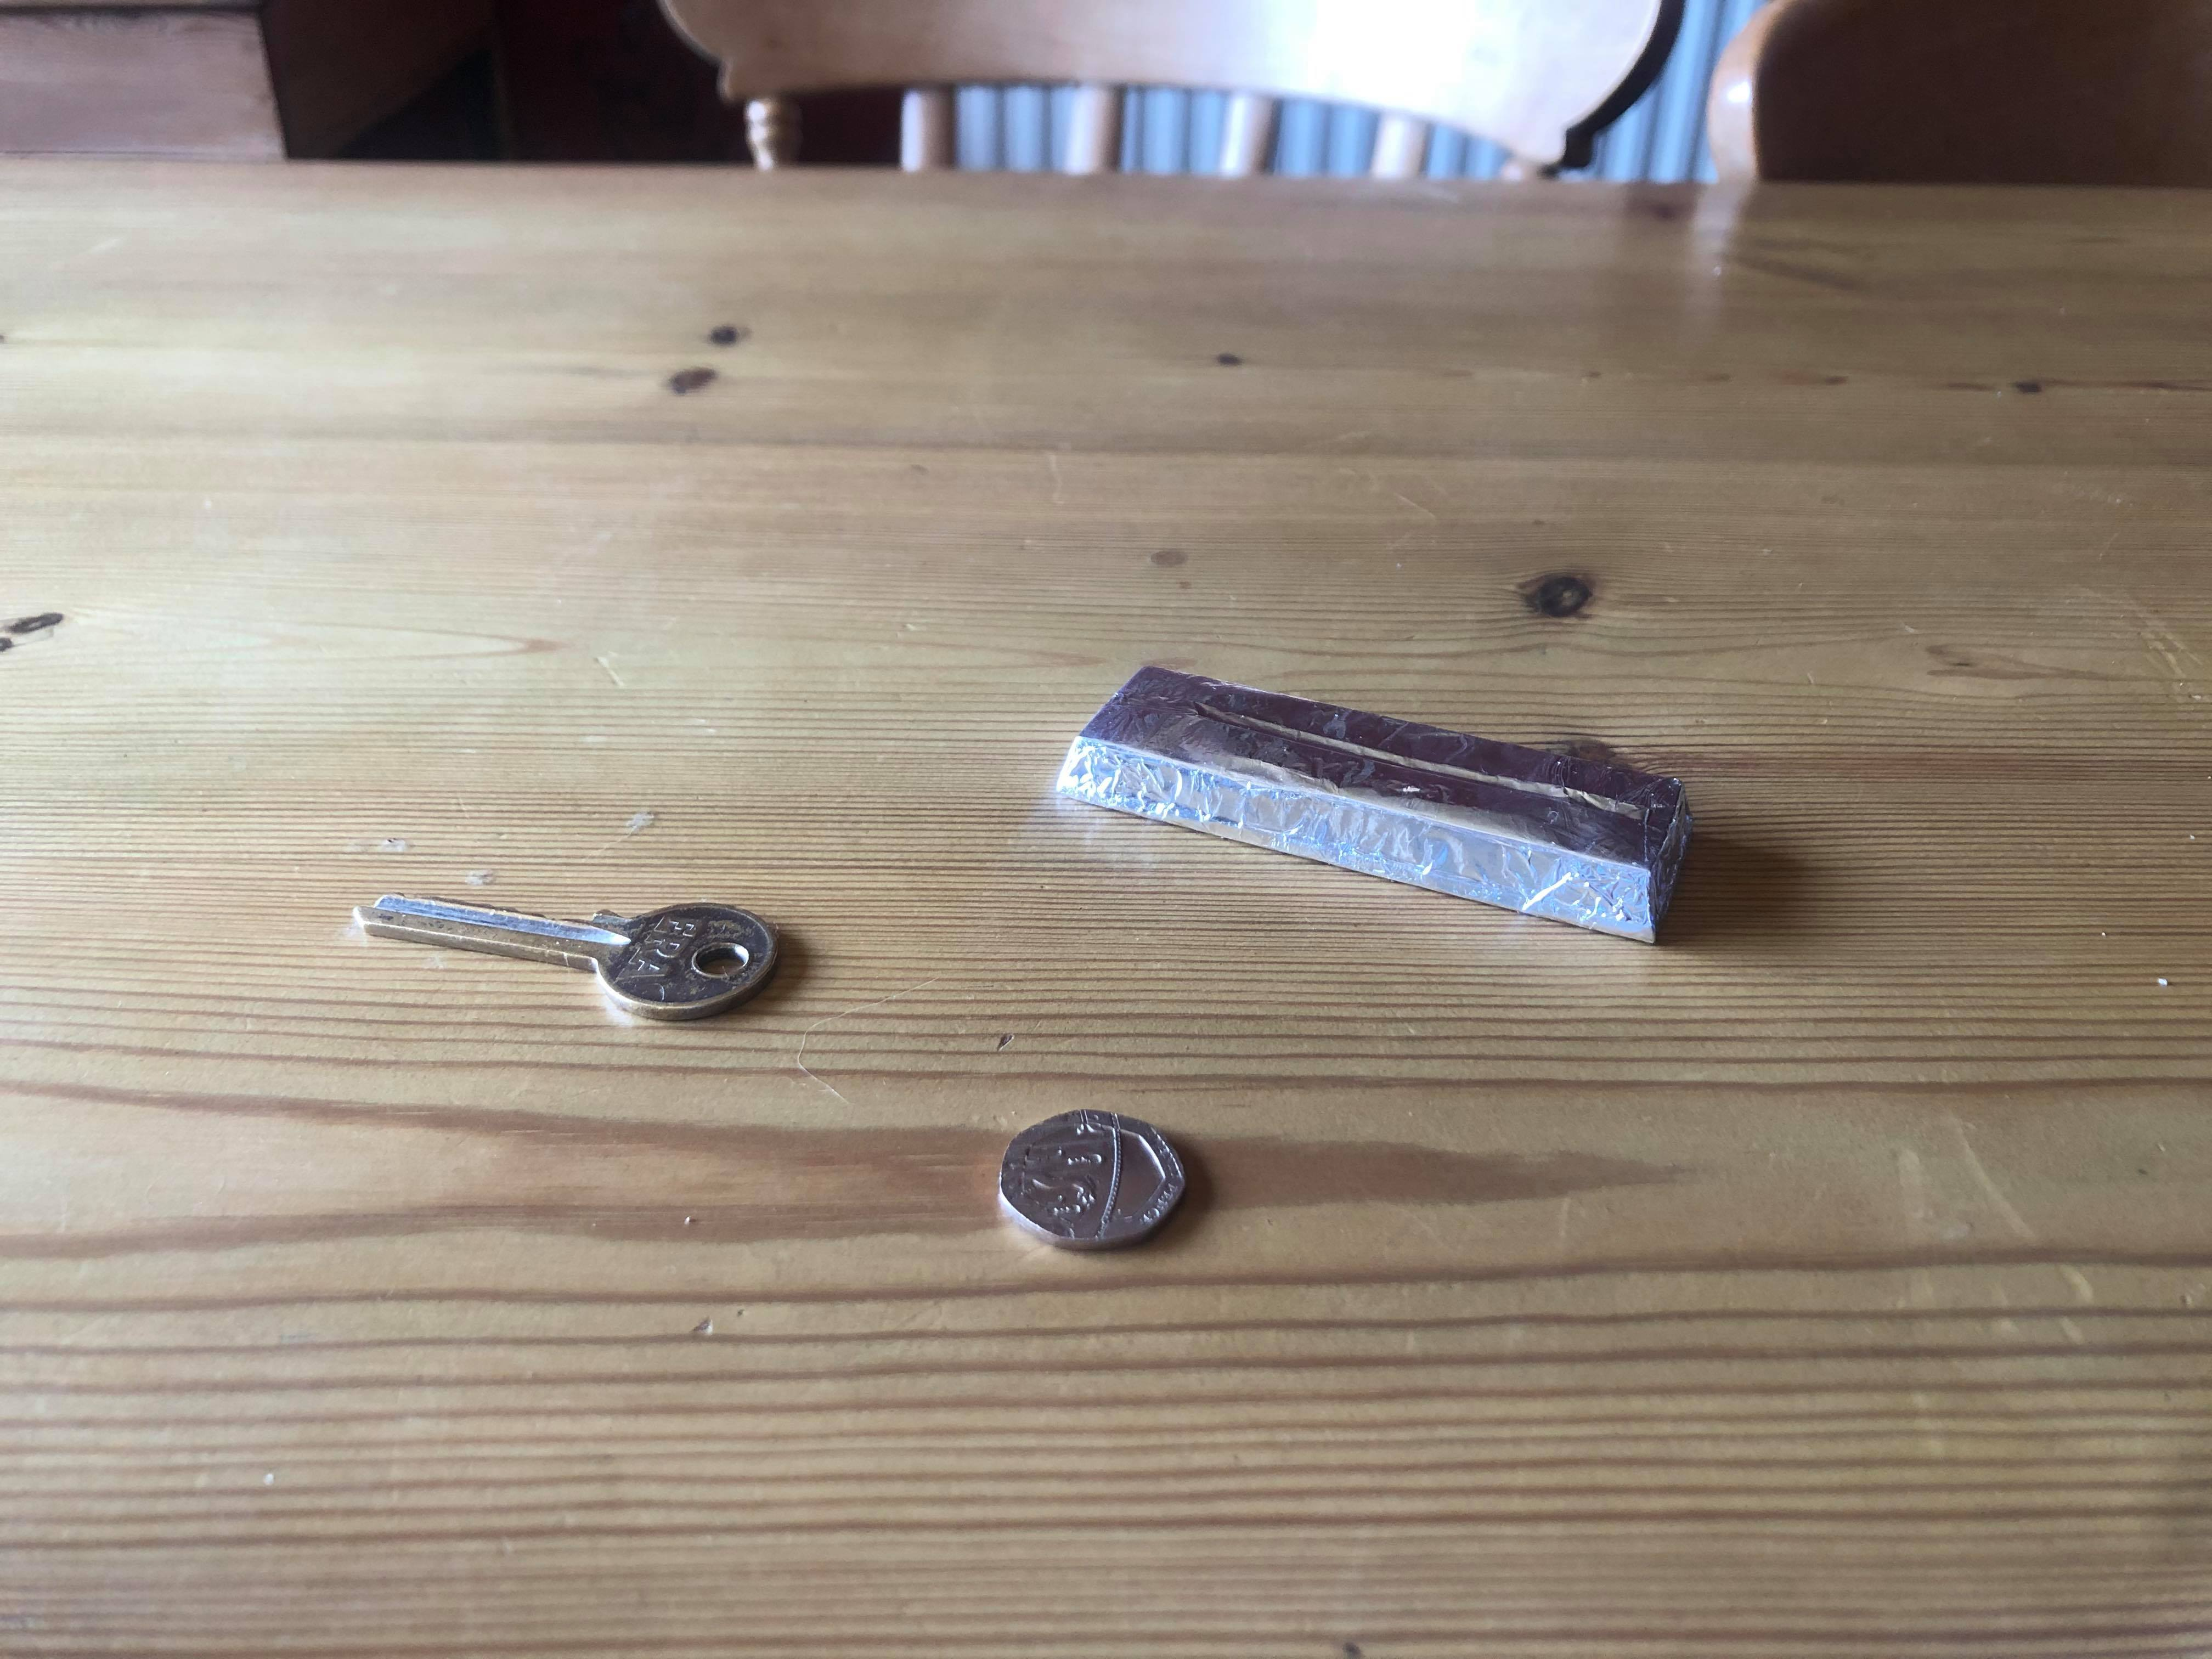Coin: (961, 1105, 1195, 1258)
Foil: (1036, 659, 1696, 953)
Key: (350, 882, 782, 1032)
